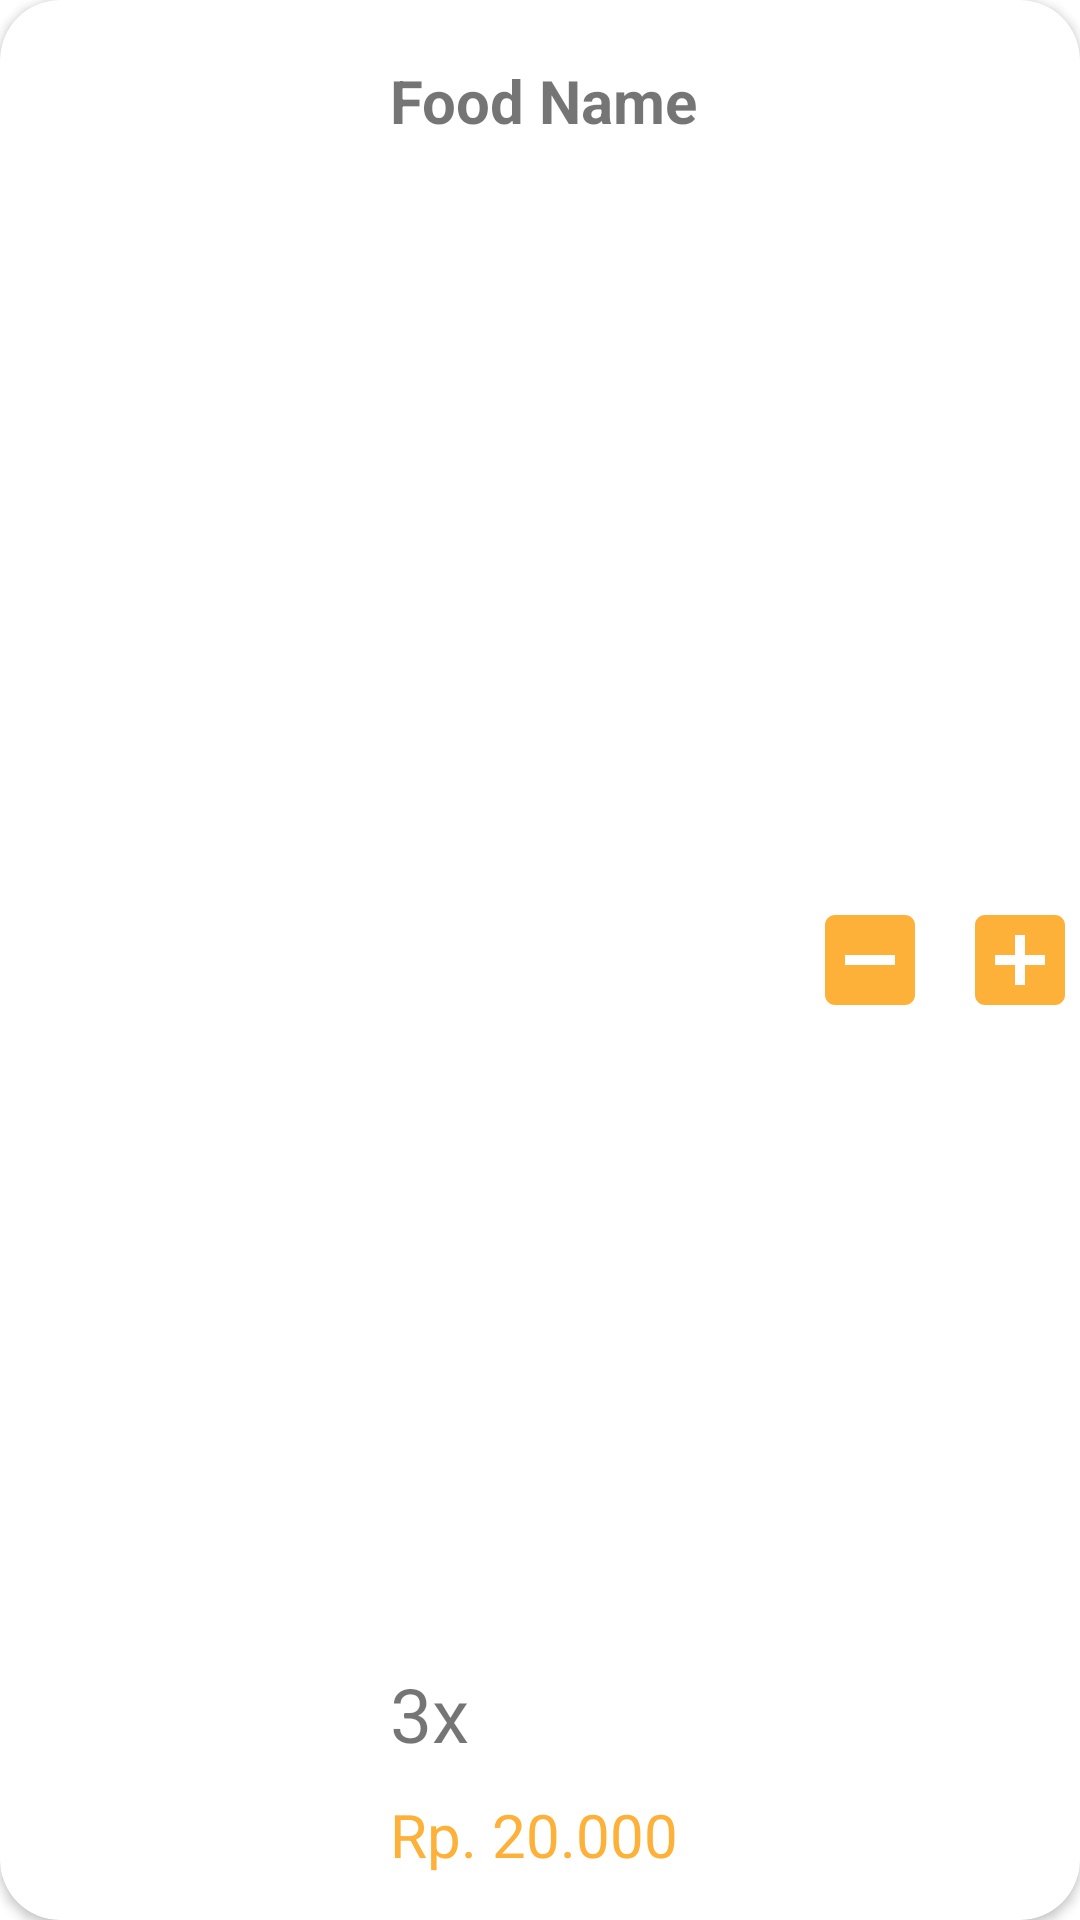

Named icons in this screenshot (1080w x 1920h) and their centers, (x=x, y=y):
add box: (x=1020, y=960)
indeterminate check box: (x=870, y=960)
